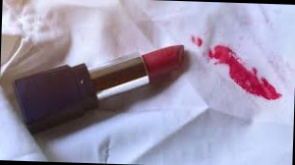lipstick: (206, 53, 279, 99), (198, 38, 237, 75), (189, 33, 211, 49)
